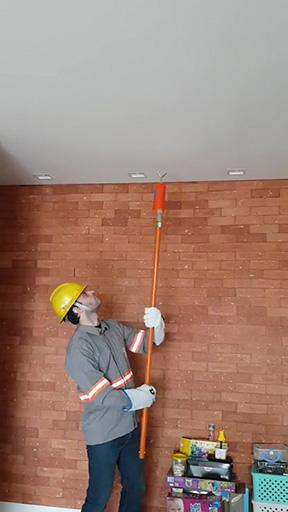Detector_Tensao_Contato: (152, 170, 168, 216)
Vara_Manobra: (137, 213, 162, 459)
